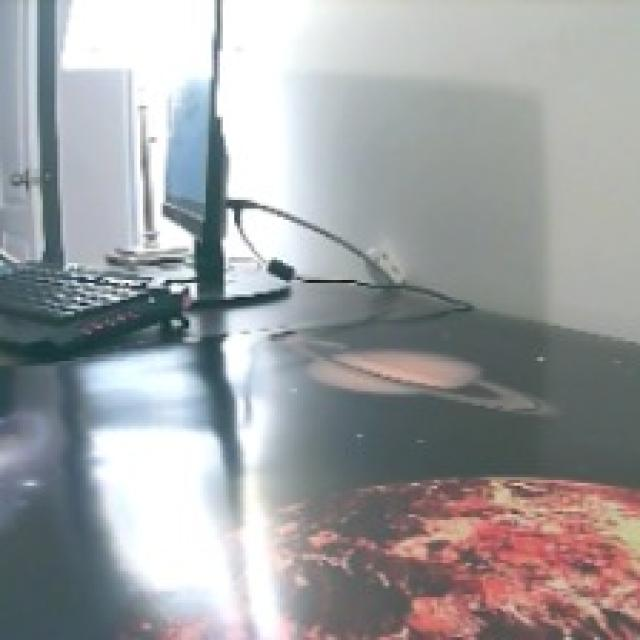Galaxy: (0, 406, 66, 534)
Saturn: (280, 328, 564, 423)
Sun: (101, 474, 639, 640)
